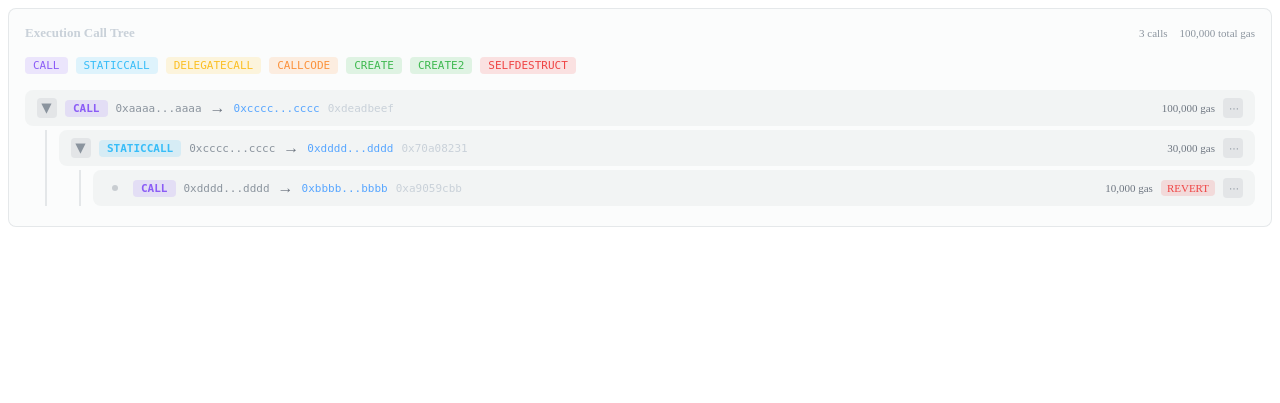
Test: CallTree › toggles detail panel when ⋯ is clicked
Expected: the text "Gas Used:" is not shown
Click the button titled "Show details" in the row of "0xdeadbeef" at (1233,108), box [1223,98,1243,118]
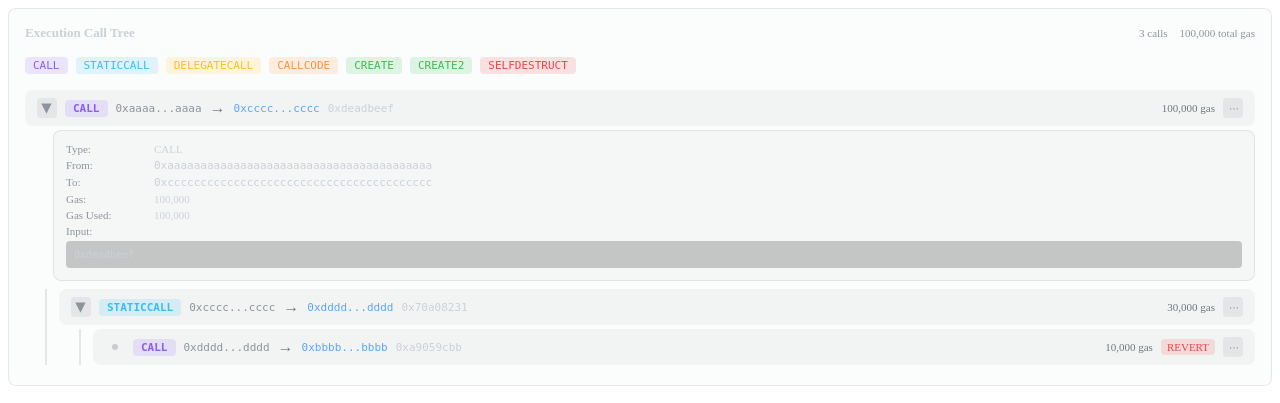
Expected: the text "From:" is shown, [66,159,93,171]
